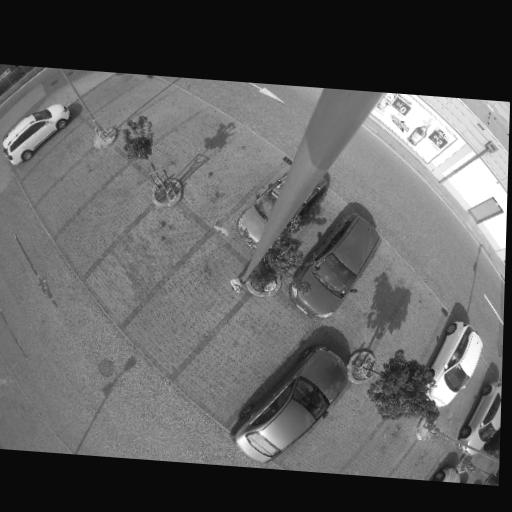busy: (231, 338, 344, 467), (285, 200, 394, 326), (234, 166, 336, 255), (425, 313, 489, 415), (0, 101, 72, 165), (473, 377, 502, 446)
free: (212, 323, 286, 375), (378, 307, 439, 357), (159, 281, 219, 327), (346, 276, 398, 327), (122, 233, 176, 272), (314, 415, 363, 455), (206, 156, 259, 191), (88, 193, 132, 226), (170, 126, 212, 156), (360, 442, 401, 472), (64, 171, 99, 197), (42, 148, 74, 172), (149, 105, 183, 126), (401, 455, 432, 478), (100, 80, 125, 97), (120, 92, 145, 107)
